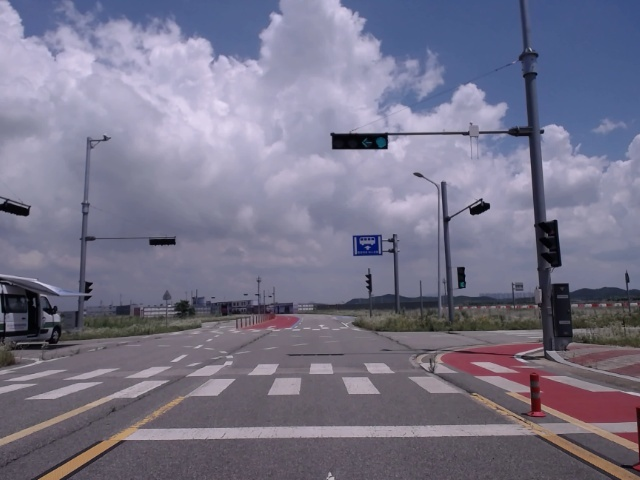all_green_4: (331, 131, 389, 148)
